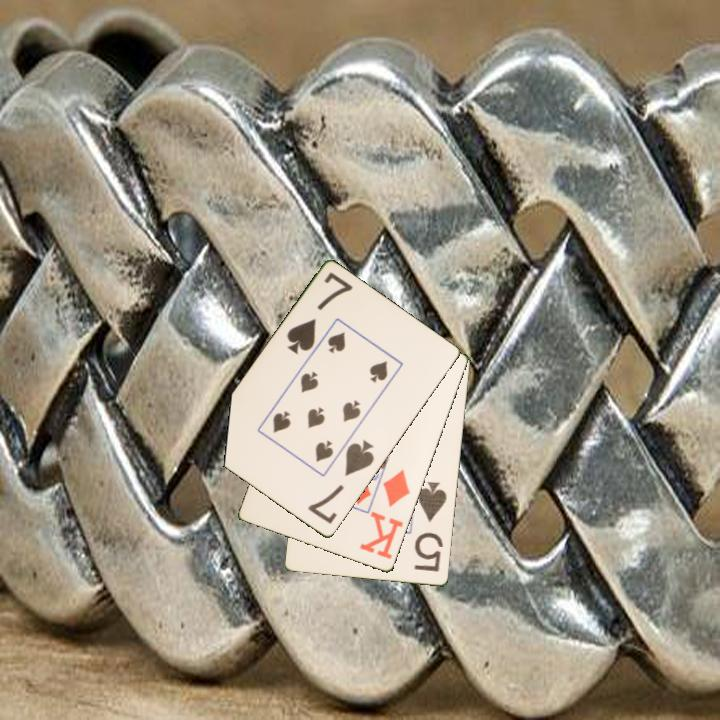5s: (411, 478, 450, 575)
7s: (304, 437, 377, 527), (283, 269, 356, 358)
Kd: (356, 466, 413, 563)
